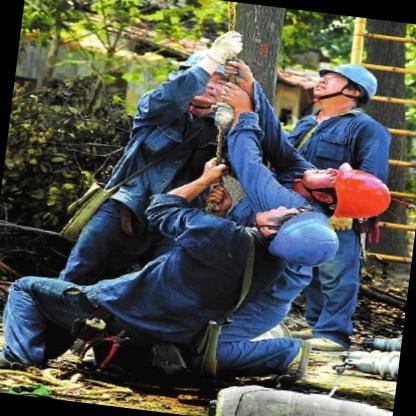helmet: (237, 200, 346, 270), (284, 160, 403, 222), (159, 38, 257, 112), (304, 55, 386, 113)
